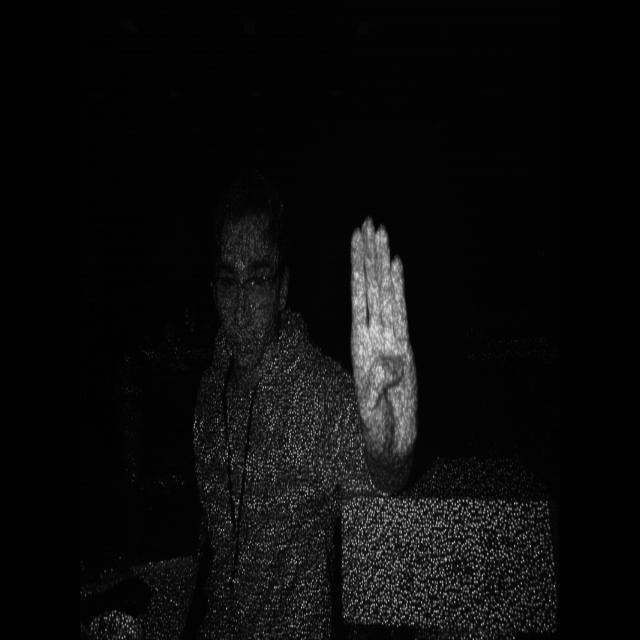B: (342, 209, 424, 473)
